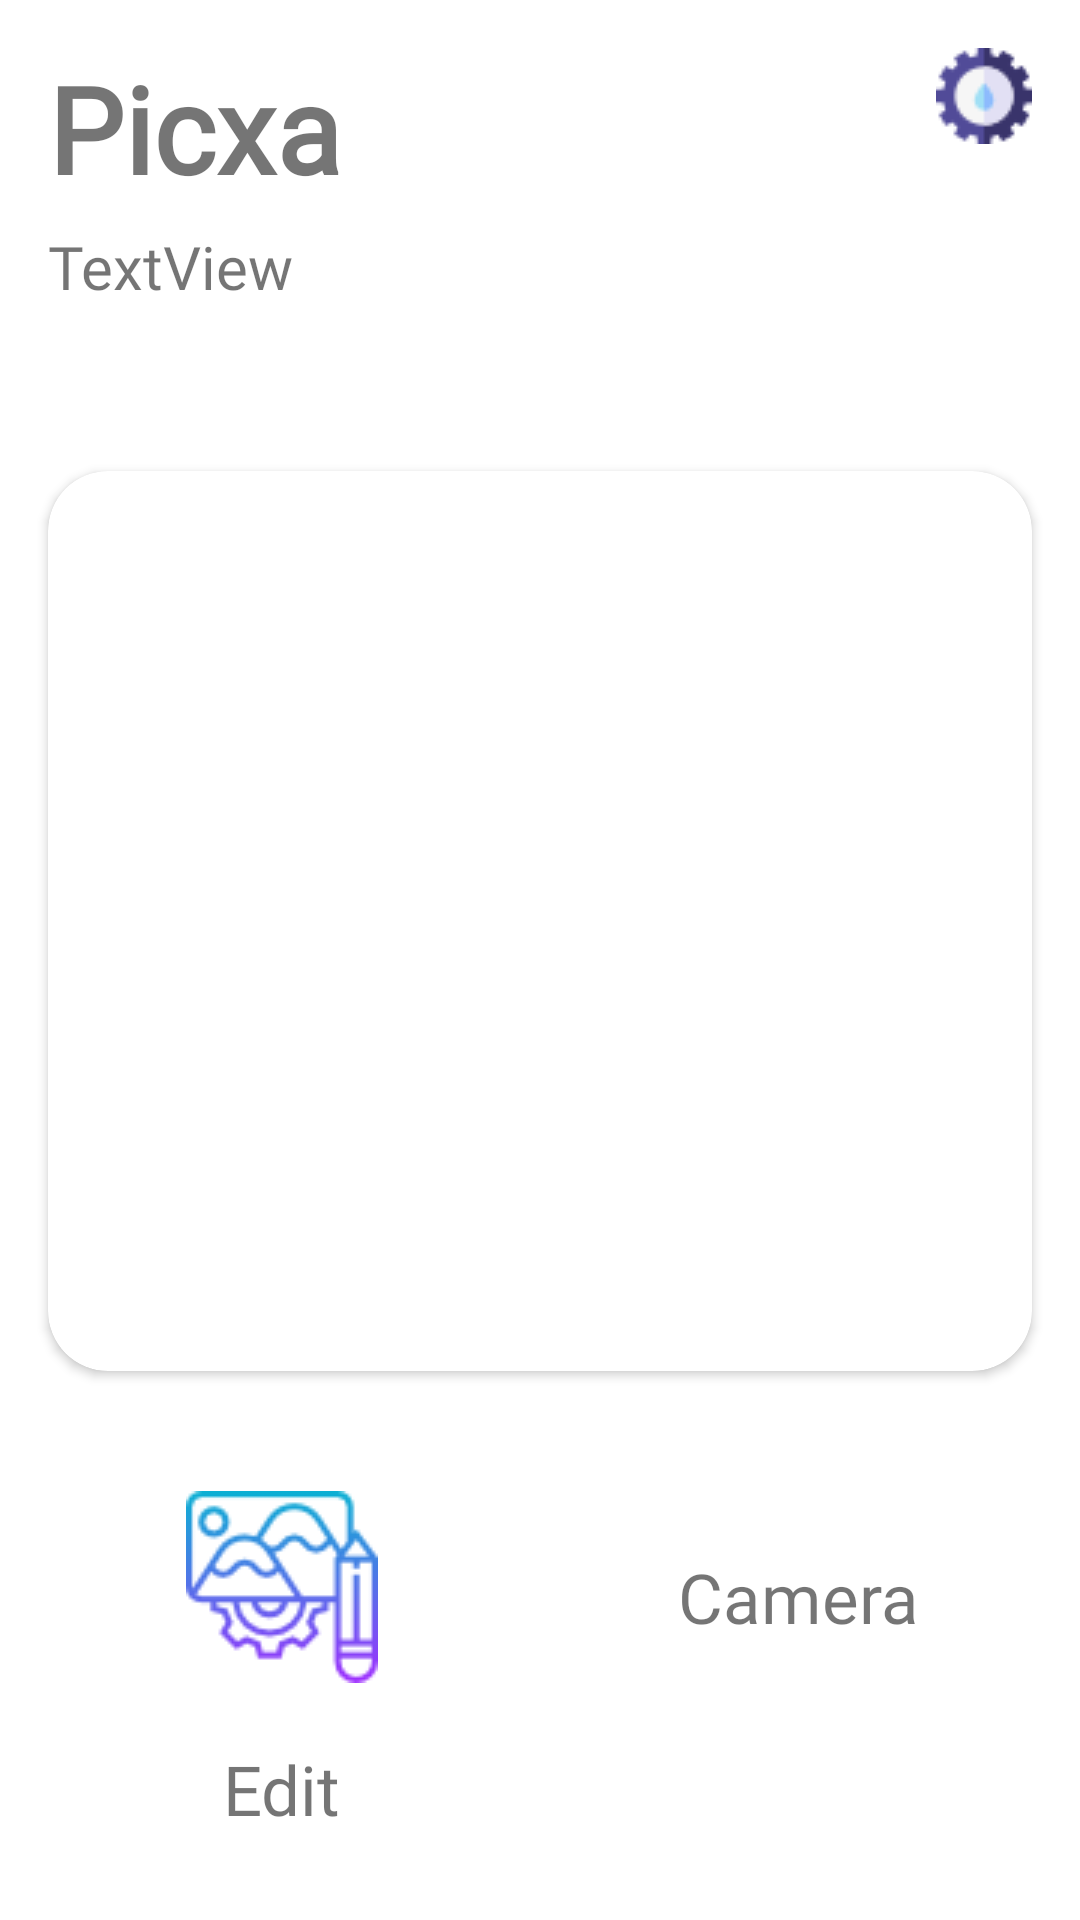

Where icons sit on this 1080px×1920px app screen, as bbox(x1, y1, x2, y2):
gear: bbox(936, 48, 1032, 144)
